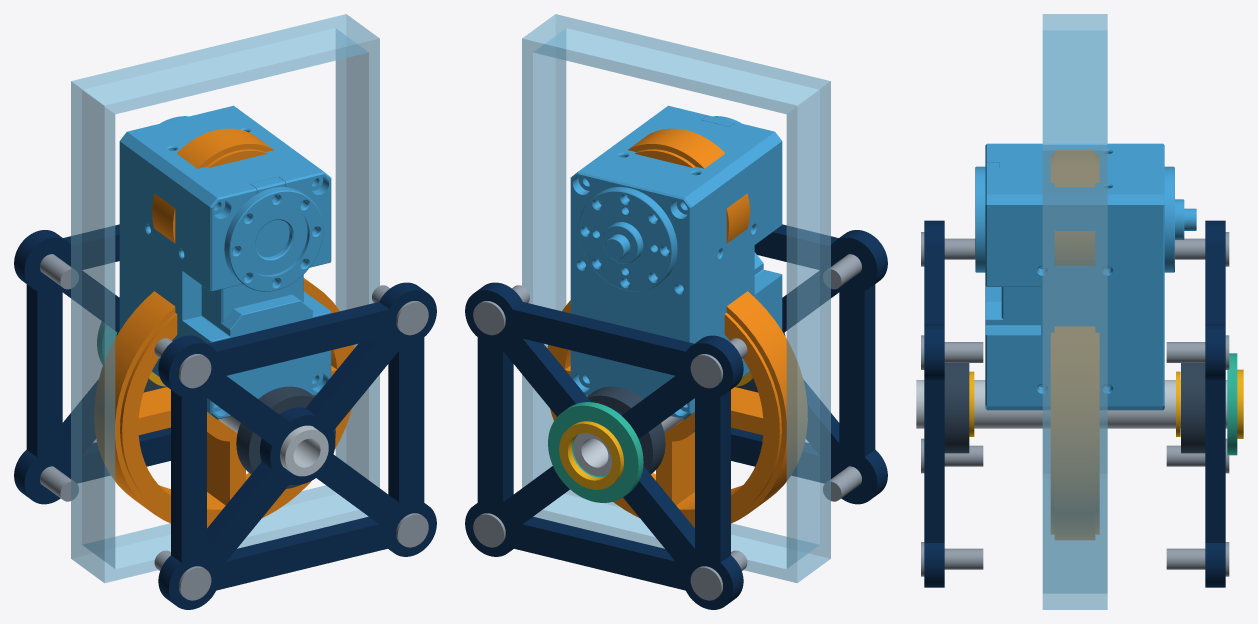
File: JMF-08-LEG-REDUCED-20_assembly.glb
3 renders of one model, left to right at view 1: azimuth 30°, elevation 25°; view 2: azimuth 150°, elevation 25°; view 3: azimuth 270°, elevation 25°, orthographic. The views are drawn at different scales.
Parts seen in each view (by area): view 1: TRANSMISSION_GUARD, CARRIER_A, ACTUATOR, CARRIER_B, TIMING_BELT, OUTPUT_PULLEY, OUTPUT_SHAFT, BEARING_A, CARRIER_A_SCREW_22, CARRIER_A_SCREW_21, CARRIER_A_SCREW_12, CARRIER_A_SCREW_11 (+2 smaller); view 2: TRANSMISSION_GUARD, CARRIER_B, ACTUATOR, CARRIER_A, TIMING_BELT, OUTPUT_PULLEY, OUTPUT_ENCODER_CARRIER, OUTPUT_MAGNET_HUB, BEARING_B, OUTPUT_SHAFT, CARRIER_B_SCREW_22, CARRIER_B_SCREW_21 (+4 smaller); view 3: ACTUATOR, TRANSMISSION_GUARD, TIMING_BELT, CARRIER_A, CARRIER_B, OUTPUT_SHAFT, BEARING_A, BEARING_B, OUTPUT_PULLEY, OUTPUT_ENCODER_CARRIER, CARRIER_B_SCREW_11, CARRIER_A_SCREW_11 (+7 smaller).
Part boxes in pixels (x1,y1,x2,y2): TRANSMISSION_GUARD: (71,14,379,582); CARRIER_A: (158,282,436,609); ACTUATOR: (119,105,331,419); CARRIER_B: (14,224,170,504); TIMING_BELT: (94,128,354,527); OUTPUT_PULLEY: (120,286,351,526); OUTPUT_SHAFT: (219,416,328,476); BEARING_A: (236,386,335,488); CARRIER_A_SCREW_22: (154,338,211,388); CARRIER_A_SCREW_21: (154,550,211,600); CARRIER_A_SCREW_12: (372,285,428,335); CARRIER_A_SCREW_11: (396,513,428,547); TRANSMISSION_GUARD: (522,14,830,582); CARRIER_B: (465,282,743,609); ACTUATOR: (570,105,782,419); CARRIER_A: (731,224,887,504); TIMING_BELT: (547,128,807,527); OUTPUT_PULLEY: (550,308,781,526); OUTPUT_ENCODER_CARRIER: (548,402,643,502); OUTPUT_MAGNET_HUB: (559,421,623,489); BEARING_B: (587,386,665,474); OUTPUT_SHAFT: (573,416,682,476); CARRIER_B_SCREW_22: (690,338,747,388); CARRIER_B_SCREW_21: (690,550,747,600); ACTUATOR: (975,143,1196,410); TRANSMISSION_GUARD: (1042,14,1107,609); TIMING_BELT: (1055,149,1094,539); CARRIER_A: (924,220,944,587); CARRIER_B: (1205,220,1225,587); OUTPUT_SHAFT: (916,380,1227,428); BEARING_A: (944,363,969,453); BEARING_B: (1181,363,1205,453); OUTPUT_PULLEY: (1051,333,1099,534); OUTPUT_ENCODER_CARRIER: (1227,353,1237,455); CARRIER_B_SCREW_11: (1166,542,1229,576); CARRIER_A_SCREW_11: (921,542,983,576).
Size of the model in its own units: 76 by 126 by 80.4.
